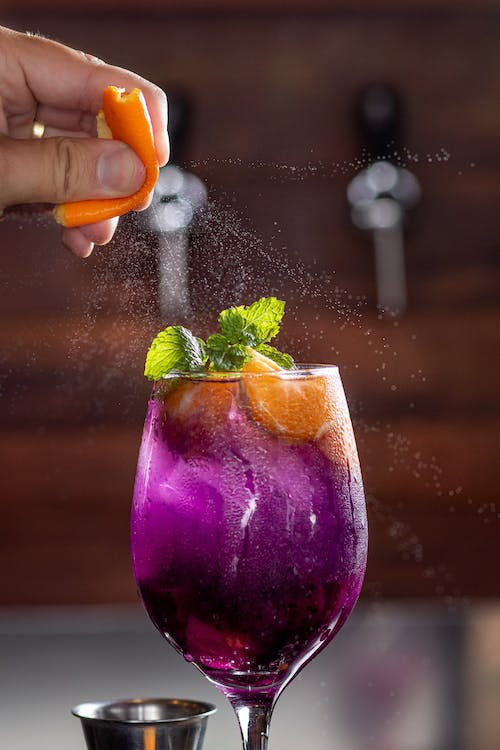alcohol: (127, 360, 370, 750)
